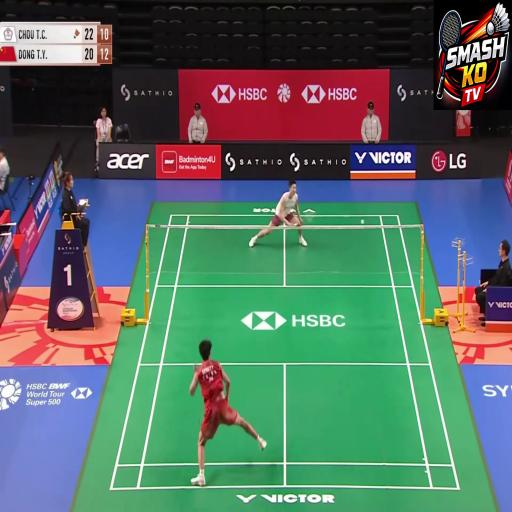player: (197, 310, 257, 450), (271, 168, 314, 290)
